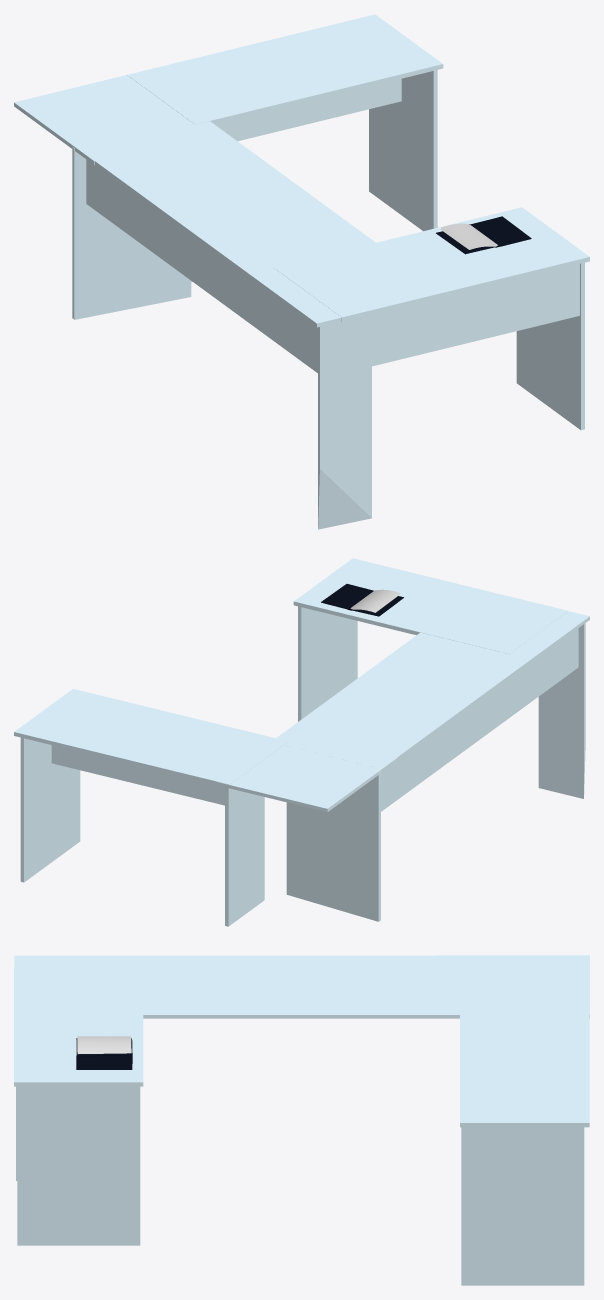
3 renders of one model, top to bottom at view 1: azimuth 30°, elevation 25°; view 2: azimuth 150°, elevation 25°; view 3: azimuth 270°, elevation 25°, orthographic. The views are drawn at different scales.
Visible parts, largest first — view 1: Mesa, BookFace, Page55; view 2: Mesa, BookFace, Page55; view 3: Mesa, Page55, BookFace.
Part boxes in pixels (x1,y1,x2,y2): Mesa: (14, 14, 589, 529); BookFace: (472, 216, 531, 246); Page55: (441, 223, 497, 247); Mesa: (14, 558, 589, 926); BookFace: (321, 584, 372, 609); Page55: (351, 589, 399, 611); Mesa: (14, 955, 589, 1285); Page55: (77, 1036, 131, 1053); BookFace: (76, 1055, 132, 1069).
Size of the model in its own units: 15.14 by 8.62 by 21.95.
5 materials, 2 textured.
